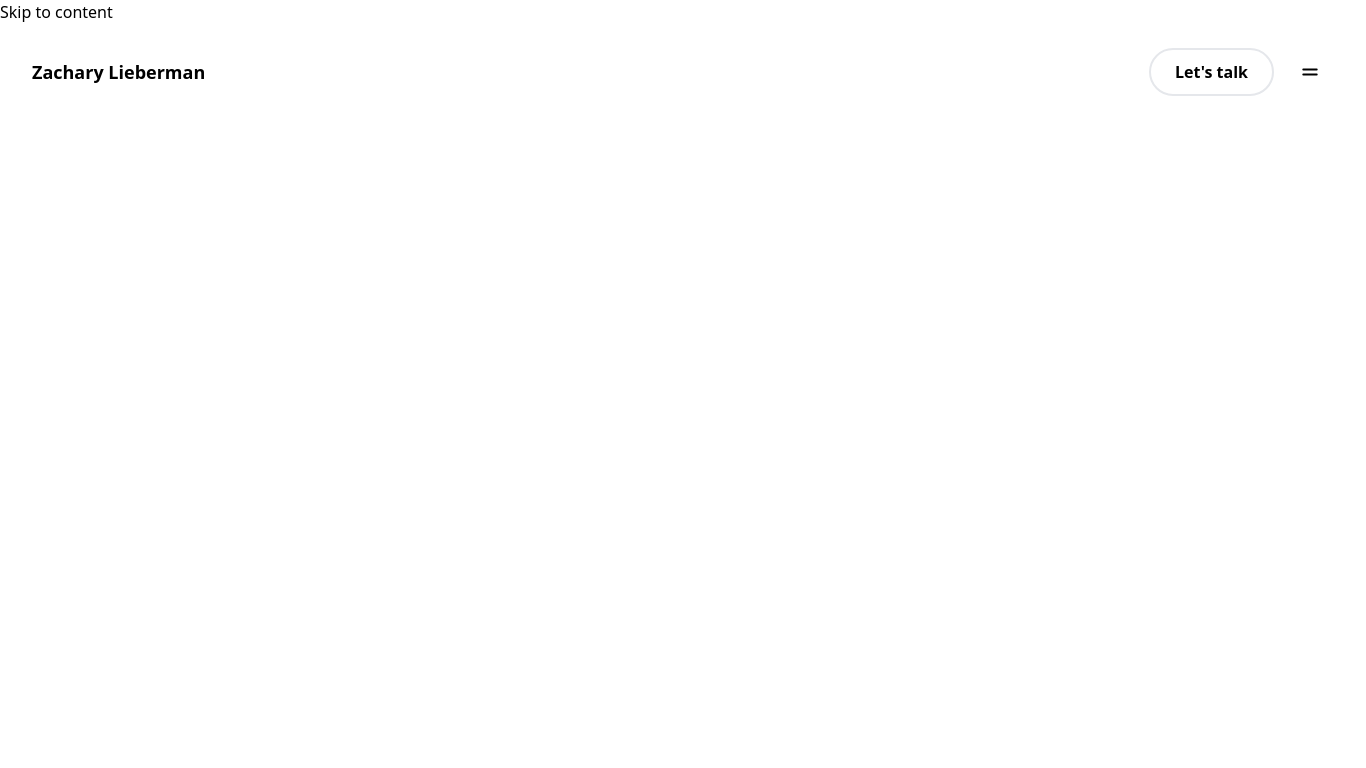
Test: PublicNavbar › closes on Escape, restores focus and unlocks scrolling
Step 1. Click the button named "Open menu" → (1310, 72), box [1286, 48, 1334, 96]
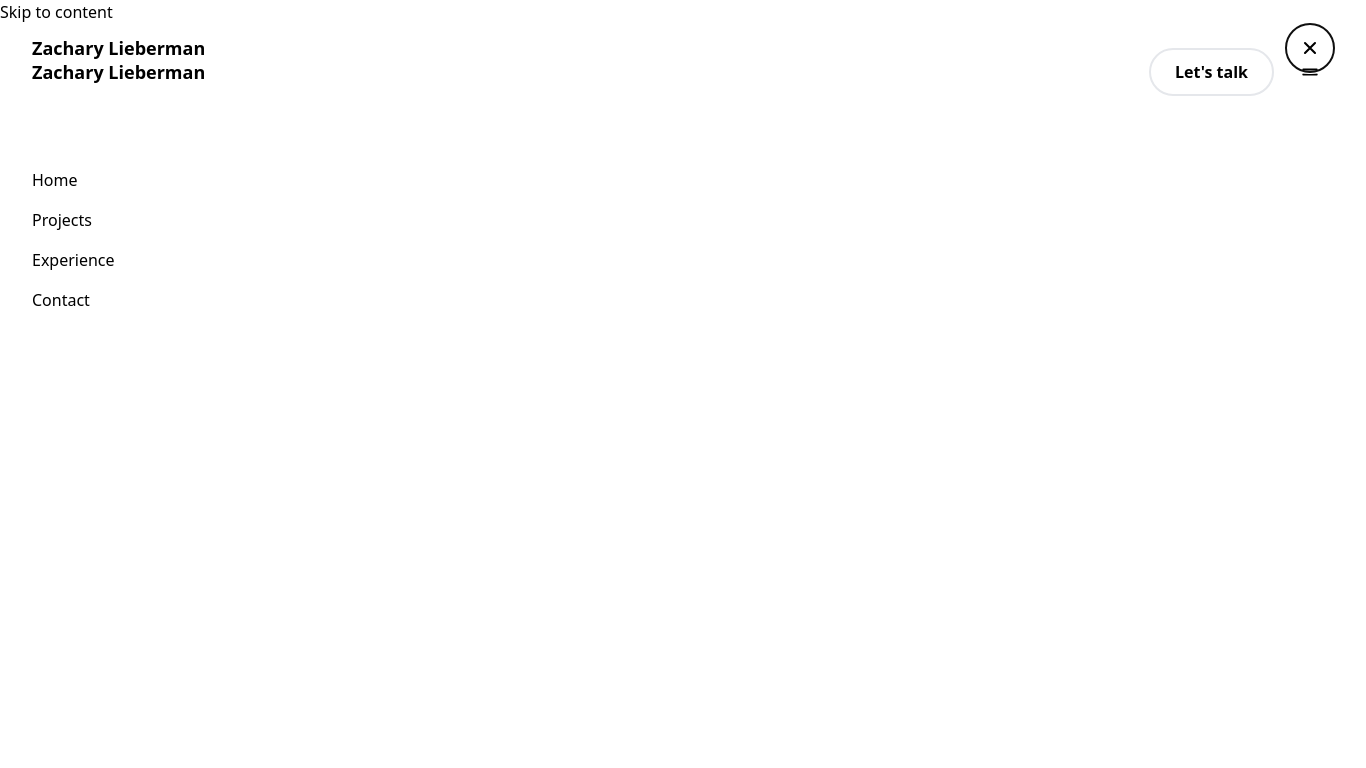
Step 2. Press Escape
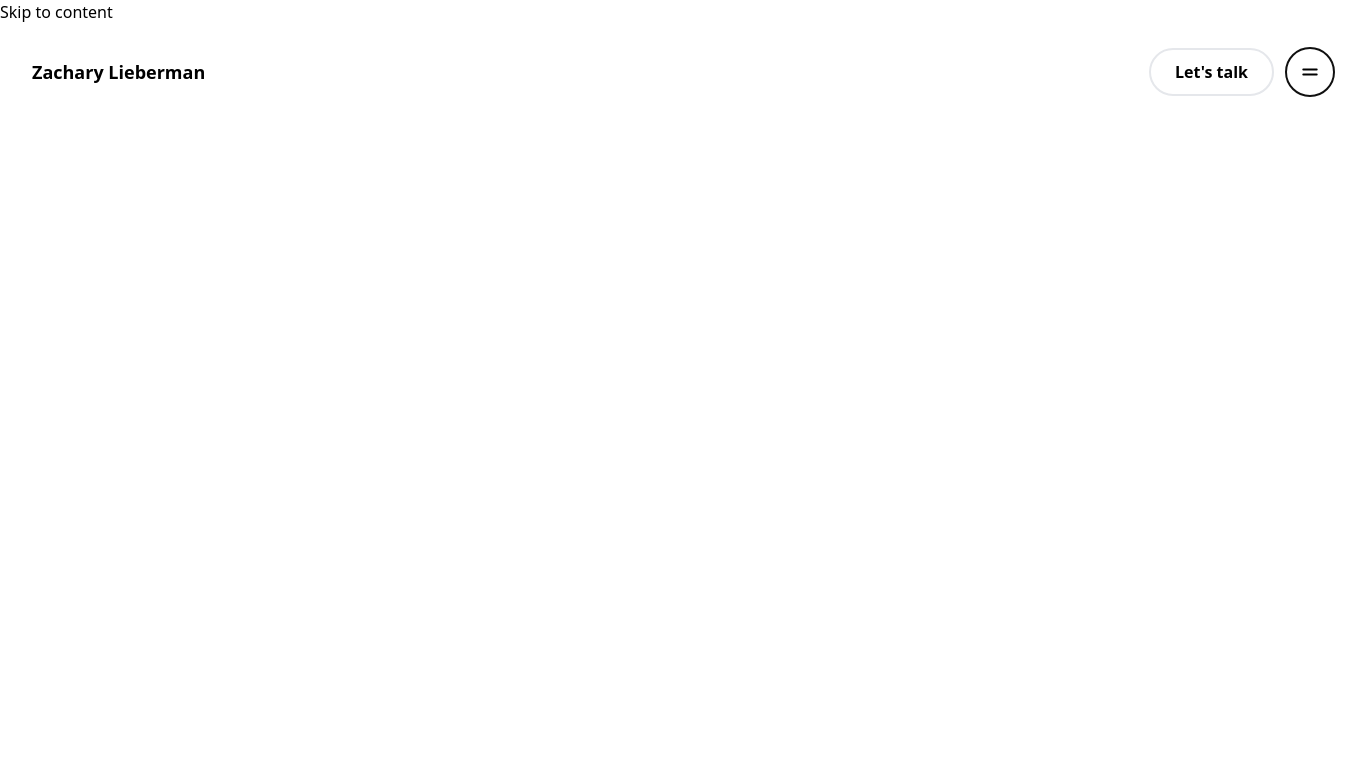
Now the dialog is gone
